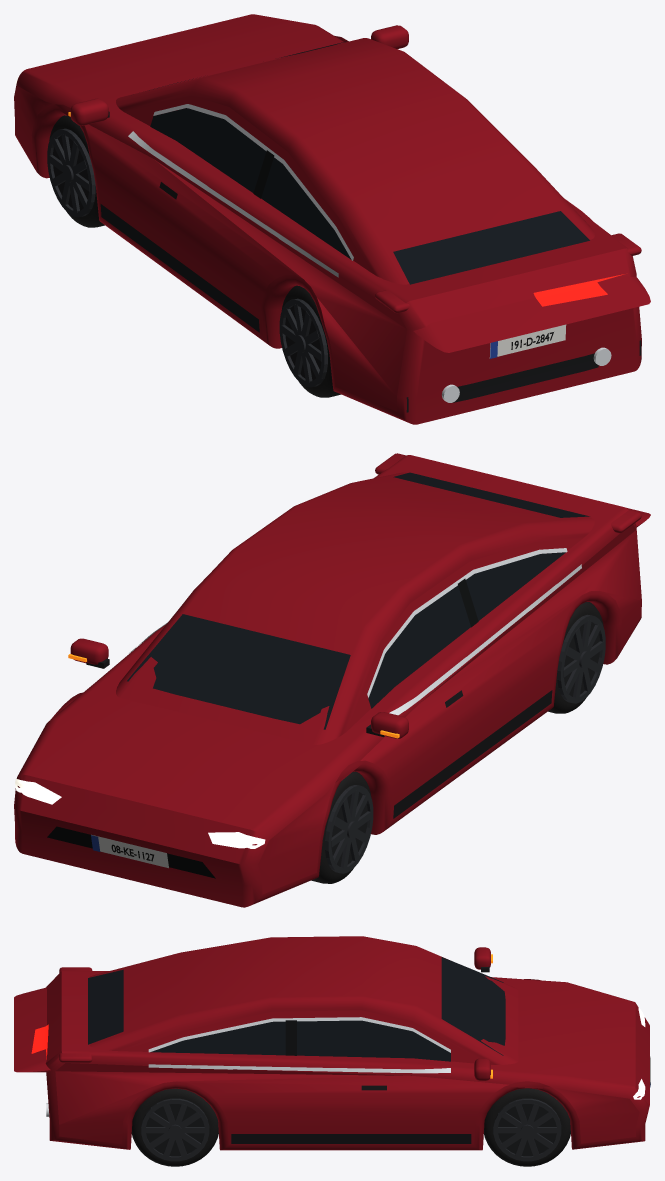
File: coupe.glb
3 views of the same model, one above another, from view 1: azimuth 30°, elevation 25°; view 2: azimuth 150°, elevation 25°; view 3: azimuth 270°, elevation 25° (orthographic). The views are drawn at different scales.
Visible parts, largest first — view 1: body, cabin, side_glass_-1, rear_screen, wheel_rear_l, wheel_front_l, r_diffuser_0, skirt_-1, dlo_chrome_bot_-1, r_tail_0, dlo_chrome_top_-1, plate_rear (+3 smaller); view 2: body, cabin, windscreen, side_glass_-1, wheel_front_l, wheel_rear_l, skirt_-1, rear_screen, dlo_chrome_bot_-1, grille_0, dlo_chrome_top_-1, plate_front (+4 smaller); view 3: body, cabin, side_glass_1, wheel_front_r, wheel_rear_r, windscreen, skirt_1, rear_screen, dlo_chrome_bot_1, dlo_chrome_top_1, ducktail, pillar_-0.45_1 (+2 smaller).
Boxes of the visible parts, bbox=[...] form: body: bbox=[14, 14, 641, 424]; cabin: bbox=[116, 38, 650, 352]; side_glass_-1: bbox=[150, 108, 351, 259]; rear_screen: bbox=[393, 211, 589, 284]; wheel_rear_l: bbox=[279, 285, 340, 397]; wheel_front_l: bbox=[47, 115, 104, 227]; r_diffuser_0: bbox=[406, 340, 641, 412]; skirt_-1: bbox=[100, 204, 259, 332]; dlo_chrome_bot_-1: bbox=[128, 131, 338, 277]; r_tail_0: bbox=[533, 274, 624, 306]; dlo_chrome_top_-1: bbox=[153, 104, 353, 260]; plate_rear: bbox=[489, 324, 566, 358]; body: bbox=[14, 455, 641, 907]; cabin: bbox=[116, 472, 650, 744]; windscreen: bbox=[127, 614, 350, 729]; side_glass_-1: bbox=[368, 552, 565, 708]; wheel_front_l: bbox=[311, 771, 373, 883]; wheel_rear_l: bbox=[548, 602, 605, 713]; skirt_-1: bbox=[393, 690, 552, 818]; rear_screen: bbox=[393, 472, 589, 517]; dlo_chrome_bot_-1: bbox=[389, 564, 581, 715]; grille_0: bbox=[47, 826, 215, 878]; dlo_chrome_top_-1: bbox=[367, 548, 567, 697]; plate_front: bbox=[91, 834, 168, 868]; body: bbox=[45, 971, 649, 1150]; cabin: bbox=[14, 936, 518, 1072]; side_glass_1: bbox=[150, 1020, 450, 1061]; wheel_front_r: bbox=[484, 1088, 570, 1166]; wheel_rear_r: bbox=[131, 1088, 218, 1166]; windscreen: bbox=[441, 957, 505, 1055]; skirt_1: bbox=[231, 1134, 471, 1143]; rear_screen: bbox=[88, 969, 123, 1044]; dlo_chrome_bot_1: bbox=[148, 1064, 450, 1073]; dlo_chrome_top_1: bbox=[148, 1017, 450, 1052]; ducktail: bbox=[59, 967, 92, 1062]; pillar_-0.45_1: bbox=[285, 1020, 296, 1055].
Bounding box in the file's own units: 2.28 × 1.32 × 4.99.
